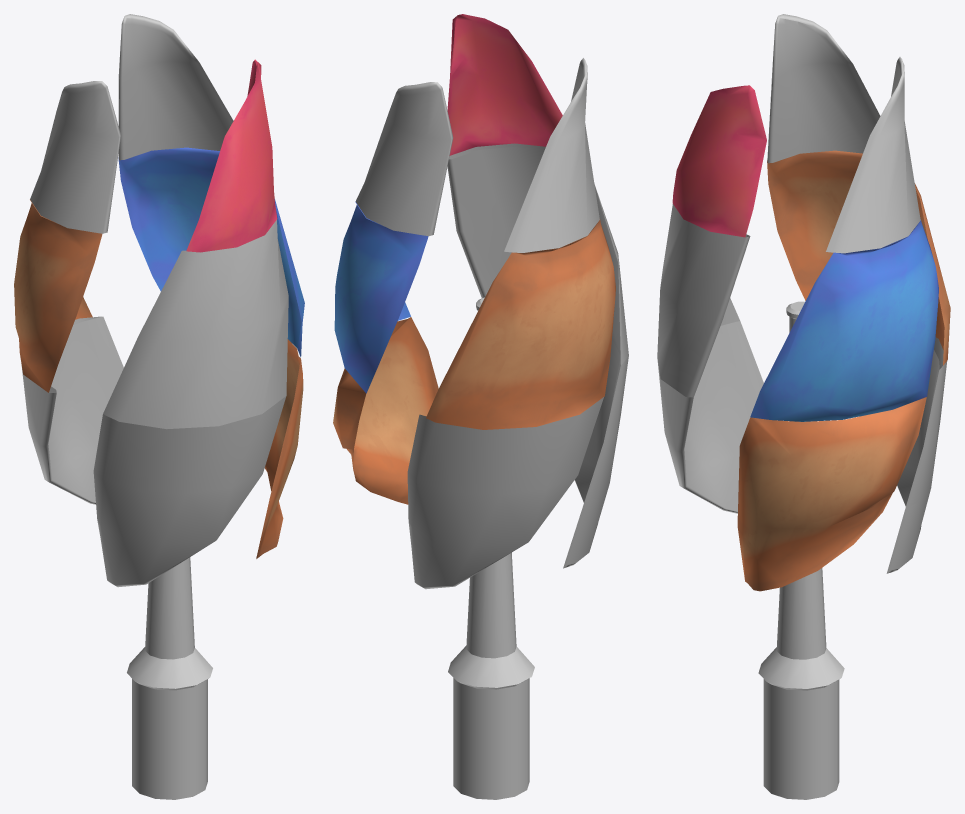
The model's file is RoofWindTurbine.fbx.
The picture shows the model from 3 angles, left to right: view 1: azimuth 30°, elevation 25°; view 2: azimuth 150°, elevation 25°; view 3: azimuth 270°, elevation 25°; orthographic projection.
Parts seen in each view (by area): view 1: RoofWindTurbineBlade, RoofWindTurbineCloth, TulipTurbineSpire; view 2: RoofWindTurbineCloth, RoofWindTurbineBlade, TulipTurbineSpire; view 3: RoofWindTurbineCloth, RoofWindTurbineBlade, TulipTurbineSpire.
Part boxes in pixels (x1=…): RoofWindTurbineBlade: x1=21, y1=14, x2=288, y2=587; RoofWindTurbineCloth: x1=14, y1=59, x2=304, y2=558; TulipTurbineSpire: x1=127, y1=557, x2=212, y2=799; RoofWindTurbineCloth: x1=333, y1=14, x2=615, y2=504; RoofWindTurbineBlade: x1=355, y1=58, x2=628, y2=589; TulipTurbineSpire: x1=448, y1=297, x2=534, y2=799; RoofWindTurbineCloth: x1=672, y1=85, x2=950, y2=591; RoofWindTurbineBlade: x1=657, y1=14, x2=947, y2=573; TulipTurbineSpire: x1=758, y1=301, x2=844, y2=799.
Size of the model in its own units: 239 by 650 by 237.
